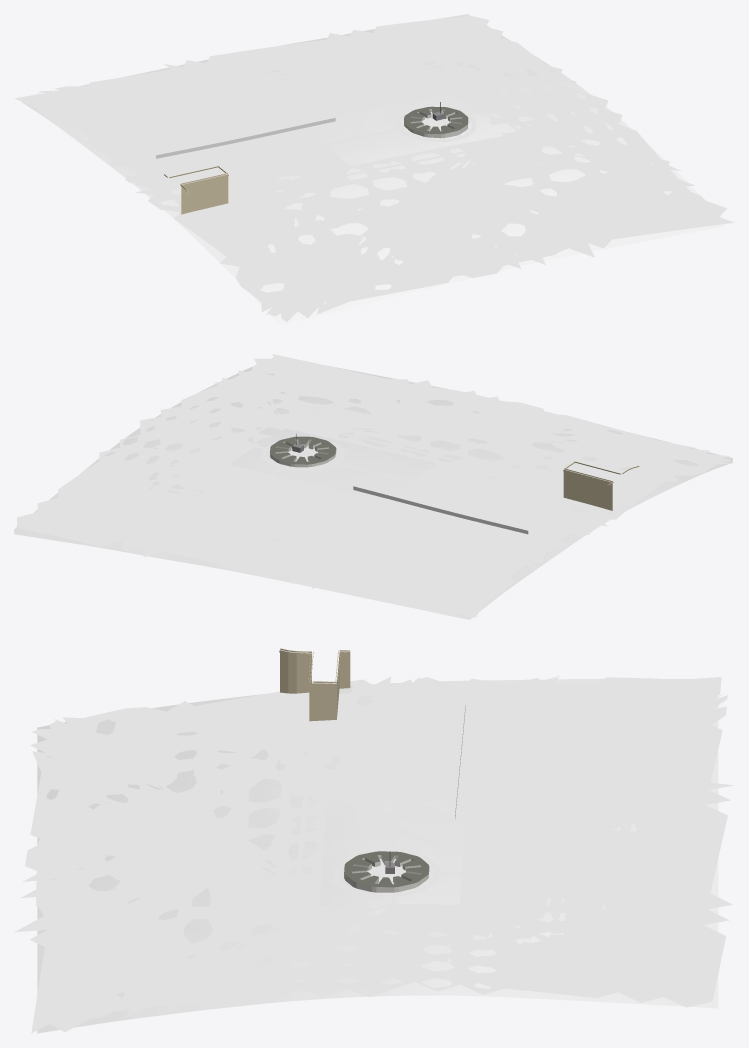
3 renders of one model, top to bottom at view 1: azimuth 30°, elevation 25°; view 2: azimuth 150°, elevation 25°; view 3: azimuth 270°, elevation 25°, orthographic. The views are drawn at different scales.
Visible parts, largest first — view 1: t0_-8_-4; view 2: t0_-8_-4; view 3: t0_-8_-4.
Part boxes in pixels (x1,y1,x2,y2): t0_-8_-4: (14, 14, 734, 325); t0_-8_-4: (14, 354, 733, 619); t0_-8_-4: (14, 648, 733, 1033).
Bounding box in the file's own units: 270 × 40.33 × 271.
